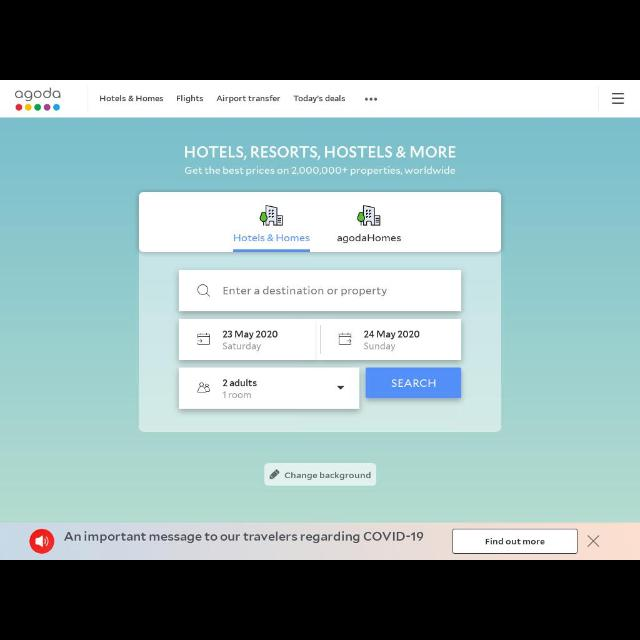icon: (28, 528, 56, 554), (356, 204, 384, 228), (258, 204, 286, 228), (195, 378, 212, 396), (338, 330, 354, 348), (610, 90, 626, 106), (586, 533, 602, 549), (195, 332, 212, 346), (197, 284, 211, 298), (268, 468, 282, 480), (364, 94, 378, 105), (336, 382, 346, 392)
iframe: (0, 523, 638, 559)
image: (14, 88, 64, 112)
input: (179, 270, 463, 312)
multitab: (140, 191, 502, 253)
spinner: (180, 367, 358, 407)
text: (183, 145, 457, 161), (64, 530, 424, 542), (183, 165, 457, 178), (222, 284, 388, 298), (232, 232, 312, 244), (284, 470, 372, 480), (363, 328, 421, 340), (335, 234, 403, 244), (215, 93, 282, 103), (98, 94, 164, 104), (221, 328, 279, 339), (292, 94, 348, 105), (485, 536, 545, 546), (389, 378, 436, 388), (222, 342, 262, 352), (364, 340, 396, 352), (222, 378, 258, 388), (174, 94, 206, 105), (222, 390, 252, 400)
textbutton: (452, 529, 578, 555), (364, 366, 462, 399), (264, 464, 376, 484)
toolbar: (1, 81, 639, 117)
